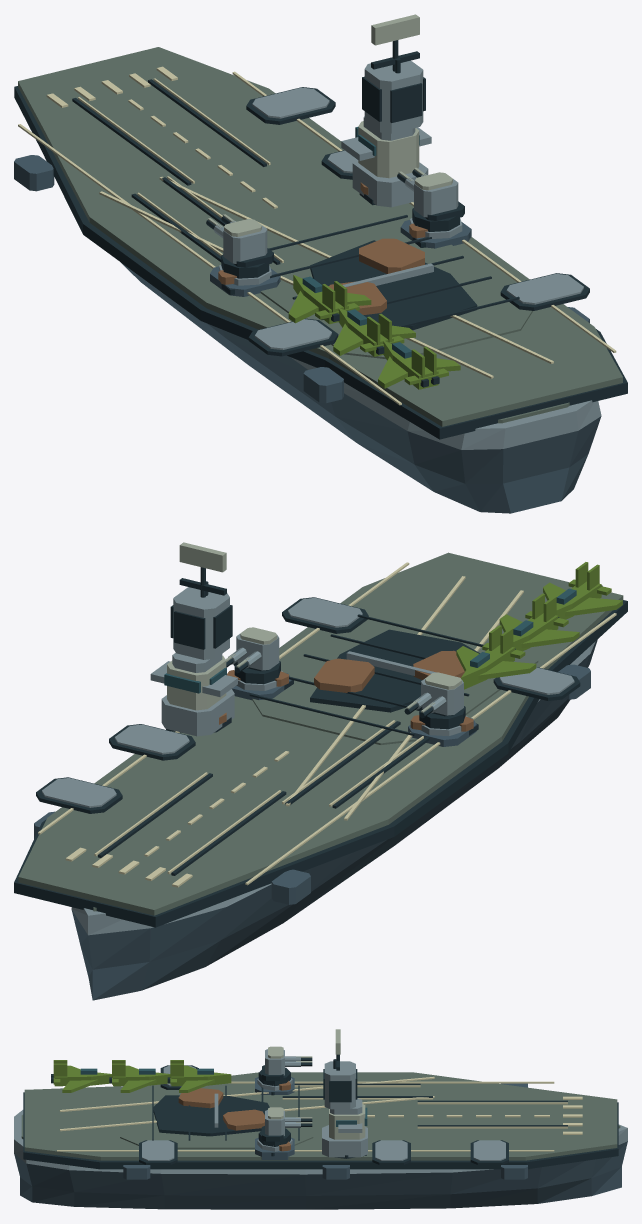
The model's file is historic-enterprise-nuclear.glb.
The picture shows the model from 3 angles, top to bottom: view 1: azimuth 30°, elevation 25°; view 2: azimuth 150°, elevation 25°; view 3: azimuth 270°, elevation 25°; orthographic projection. The views are drawn at different scales.
Visible parts, largest first — view 1: historic-enterprise-nuclear-historic-enterprise-nuclear-geom, historic-enterprise-nuclear-part_flight-deck.020-geometry, historic-enterprise-nuclear-part_bridge.078-geometry, historic-enterprise-nuclear-ruin_flight-deck.019-geometry, historic-enterprise-nuclear-turret_aa_aa-port.082-geometry, historic-enterprise-nuclear-turret_aa_aa-starboard.078-geome, historic-enterprise-nuclear-parked_aircraft_0.020-geometry, historic-enterprise-nuclear-parked_aircraft_2.020-geometry, historic-enterprise-nuclear-parked_aircraft_1.020-geometry, historic-enterprise-nuclear-aircraft_lift_0.020-geometry, historic-enterprise-nuclear-aircraft_lift_3.002-geometry, historic-enterprise-nuclear-aircraft_lift_2.015-geometry (+3 smaller); view 2: historic-enterprise-nuclear-historic-enterprise-nuclear-geom, historic-enterprise-nuclear-part_flight-deck.020-geometry, historic-enterprise-nuclear-part_bridge.078-geometry, historic-enterprise-nuclear-ruin_flight-deck.019-geometry, historic-enterprise-nuclear-parked_aircraft_2.020-geometry, historic-enterprise-nuclear-turret_aa_aa-port.082-geometry, historic-enterprise-nuclear-turret_aa_aa-starboard.078-geome, historic-enterprise-nuclear-parked_aircraft_1.020-geometry, historic-enterprise-nuclear-parked_aircraft_0.020-geometry, historic-enterprise-nuclear-aircraft_lift_1.020-geometry, historic-enterprise-nuclear-aircraft_lift_0.020-geometry, historic-enterprise-nuclear-aircraft_lift_2.015-geometry (+3 smaller); view 3: historic-enterprise-nuclear-historic-enterprise-nuclear-geom, historic-enterprise-nuclear-part_flight-deck.020-geometry, historic-enterprise-nuclear-ruin_flight-deck.019-geometry, historic-enterprise-nuclear-part_bridge.078-geometry, historic-enterprise-nuclear-parked_aircraft_2.020-geometry, historic-enterprise-nuclear-parked_aircraft_0.020-geometry, historic-enterprise-nuclear-turret_aa_aa-port.082-geometry, historic-enterprise-nuclear-turret_aa_aa-starboard.078-geome, historic-enterprise-nuclear-parked_aircraft_1.020-geometry, historic-enterprise-nuclear-aircraft_lift_2.015-geometry, historic-enterprise-nuclear-aircraft_lift_0.020-geometry, historic-enterprise-nuclear-aircraft_lift_1.020-geometry (+2 smaller).
Boxes of the visible parts, x1,y1,x2,y2 form: historic-enterprise-nuclear-historic-enterprise-nuclear-geom: (14,47,627,513); historic-enterprise-nuclear-part_flight-deck.020-geometry: (260,215,532,358); historic-enterprise-nuclear-part_bridge.078-geometry: (341,14,431,207); historic-enterprise-nuclear-ruin_flight-deck.019-geometry: (310,238,477,330); historic-enterprise-nuclear-turret_aa_aa-port.082-geometry: (206,214,273,278); historic-enterprise-nuclear-turret_aa_aa-starboard.078-geome: (397,167,464,231); historic-enterprise-nuclear-parked_aircraft_0.020-geometry: (378,340,460,389); historic-enterprise-nuclear-parked_aircraft_2.020-geometry: (288,275,371,324); historic-enterprise-nuclear-parked_aircraft_1.020-geometry: (333,308,415,356); historic-enterprise-nuclear-aircraft_lift_0.020-geometry: (246,87,335,124); historic-enterprise-nuclear-aircraft_lift_3.002-geometry: (248,318,338,356); historic-enterprise-nuclear-aircraft_lift_2.015-geometry: (500,273,589,310); historic-enterprise-nuclear-historic-enterprise-nuclear-geom: (14,552,627,1000); historic-enterprise-nuclear-part_flight-deck.020-geometry: (249,609,538,744); historic-enterprise-nuclear-part_bridge.078-geometry: (150,542,237,736); historic-enterprise-nuclear-ruin_flight-deck.019-geometry: (310,629,479,712); historic-enterprise-nuclear-parked_aircraft_2.020-geometry: (456,625,536,689); historic-enterprise-nuclear-turret_aa_aa-port.082-geometry: (404,672,465,729); historic-enterprise-nuclear-turret_aa_aa-starboard.078-geome: (225,627,280,684); historic-enterprise-nuclear-parked_aircraft_1.020-geometry: (499,593,579,651); historic-enterprise-nuclear-parked_aircraft_0.020-geometry: (543,562,622,619); historic-enterprise-nuclear-aircraft_lift_1.020-geometry: (109,724,195,760); historic-enterprise-nuclear-aircraft_lift_0.020-geometry: (36,777,122,813); historic-enterprise-nuclear-aircraft_lift_2.015-geometry: (282,597,368,633); historic-enterprise-nuclear-historic-enterprise-nuclear-geom: (14,1072,627,1209); historic-enterprise-nuclear-part_flight-deck.020-geometry: (120,1085,313,1148); historic-enterprise-nuclear-ruin_flight-deck.019-geometry: (153,1088,269,1136); historic-enterprise-nuclear-part_bridge.078-geometry: (322,1029,367,1157); historic-enterprise-nuclear-parked_aircraft_2.020-geometry: (167,1060,231,1092); historic-enterprise-nuclear-parked_aircraft_0.020-geometry: (51,1060,111,1092); historic-enterprise-nuclear-turret_aa_aa-port.082-geometry: (258,1046,312,1086); historic-enterprise-nuclear-turret_aa_aa-starboard.078-geome: (258,1107,312,1146); historic-enterprise-nuclear-parked_aircraft_1.020-geometry: (109,1060,170,1092); historic-enterprise-nuclear-aircraft_lift_2.015-geometry: (139,1140,177,1164); historic-enterprise-nuclear-aircraft_lift_0.020-geometry: (470,1140,508,1164); historic-enterprise-nuclear-aircraft_lift_1.020-geometry: (372,1140,410,1164).
Bounding box in the file's own units: 2.21 × 1.95 × 5.89.
